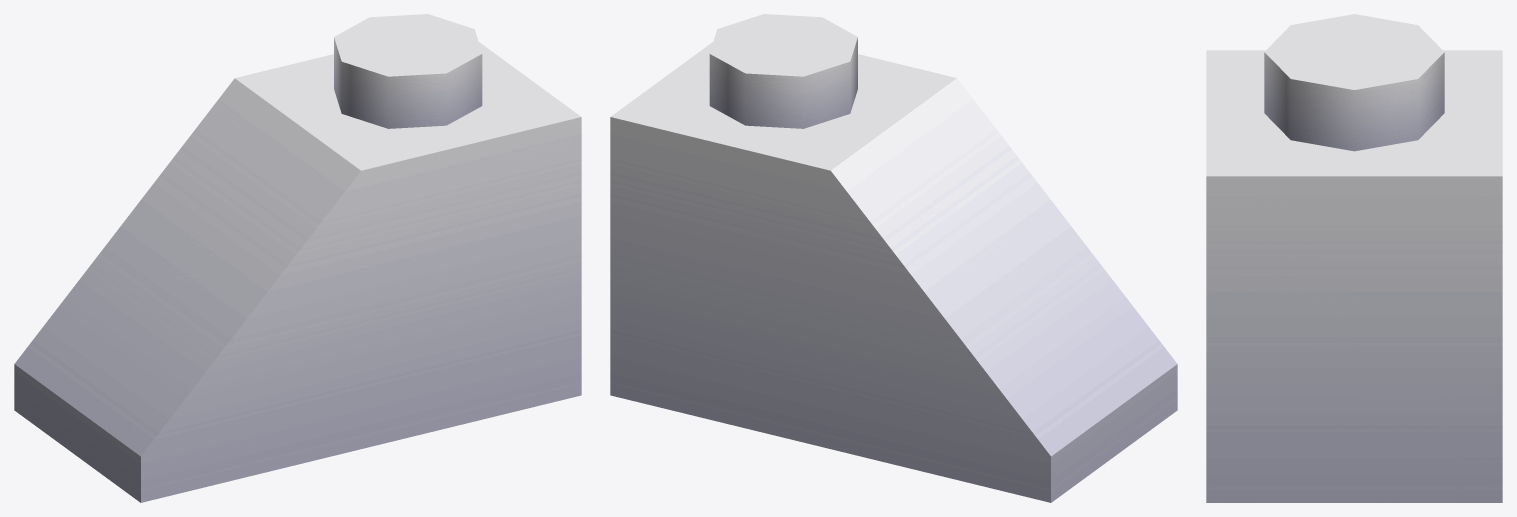
The model's file is round-lq-brick-slope-1x2.glb.
The picture shows the model from 3 angles, left to right: view 1: azimuth 30°, elevation 25°; view 2: azimuth 150°, elevation 25°; view 3: azimuth 270°, elevation 25°; orthographic projection. The views are drawn at different scales.
Visible parts, largest first — view 1: round-lq-brick-slope-1x2; view 2: round-lq-brick-slope-1x2; view 3: round-lq-brick-slope-1x2.
Part boxes in pixels (x1,y1,x2,y2): round-lq-brick-slope-1x2: [14, 14, 581, 502]; round-lq-brick-slope-1x2: [610, 14, 1177, 502]; round-lq-brick-slope-1x2: [1206, 14, 1502, 502].
Bounding box in the file's own units: 0.159 × 0.114 × 0.079.
Materials: 1 (1 with a texture image).
